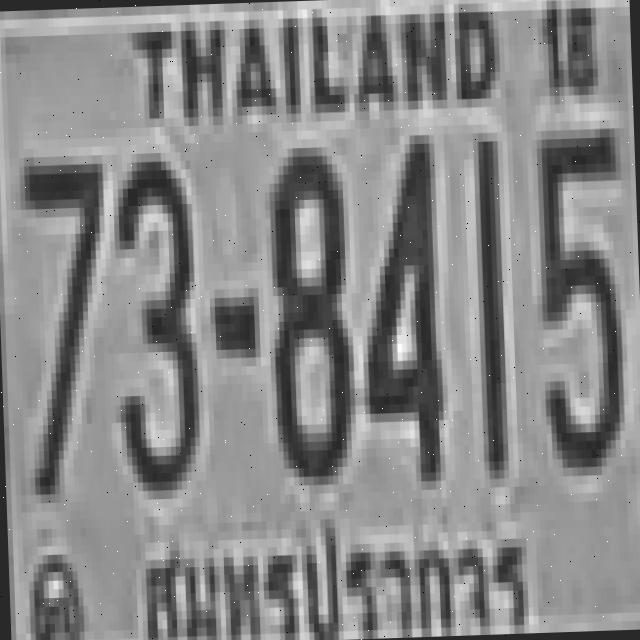1: (467, 123, 504, 470)
3: (107, 152, 196, 483)
4: (354, 130, 440, 478)
5: (530, 119, 626, 468)
7: (18, 155, 108, 494), (19, 155, 106, 417)
8: (262, 138, 348, 478)
SamutPrakan: (138, 508, 538, 640)
